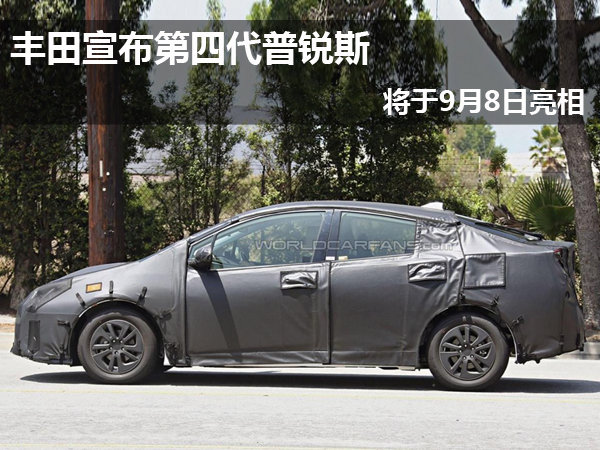back_view: (2, 75, 221, 212)
backlight: (87, 86, 200, 127)
side_glass: (196, 14, 376, 67)
